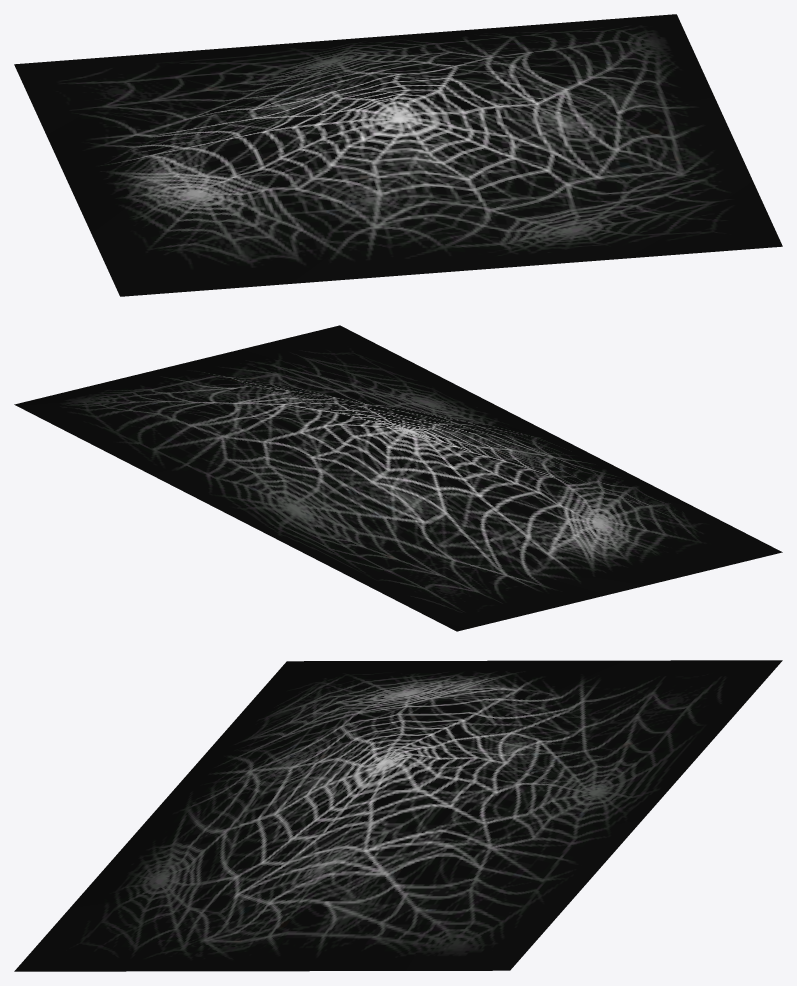
Rendered from MIRKWOOD_PLANE40.fbx.
3 views of the same model, one above another, from view 1: azimuth 30°, elevation 25°; view 2: azimuth 150°, elevation 25°; view 3: azimuth 270°, elevation 25° (orthographic). The views are drawn at different scales.
Parts seen in each view (by area): view 1: MIRKWOOD_PLANE40; view 2: MIRKWOOD_PLANE40; view 3: MIRKWOOD_PLANE40.
Part boxes in pixels (x1=…): MIRKWOOD_PLANE40: x1=14, y1=14, x2=782, y2=296; MIRKWOOD_PLANE40: x1=14, y1=325, x2=782, y2=631; MIRKWOOD_PLANE40: x1=14, y1=660, x2=782, y2=971.
Bounding box in the file's own units: 183549 × 20829 × 159900.
1 material, 1 textured.
